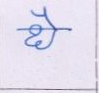au_matra: (32, 8, 58, 32)
